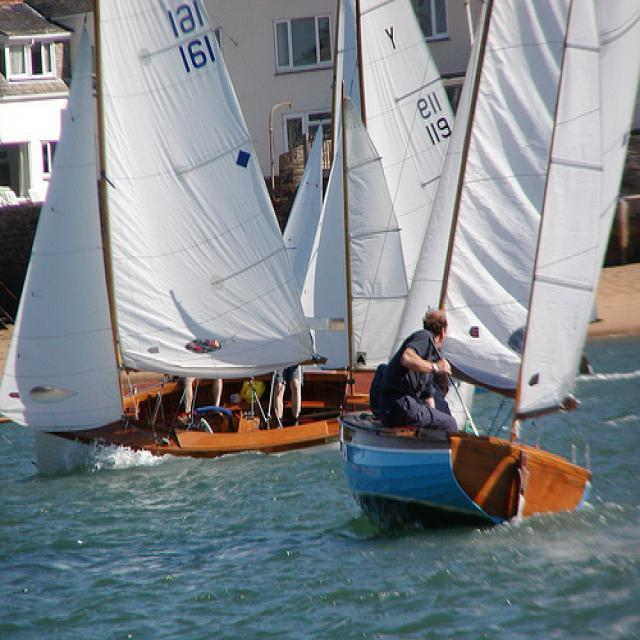Ship: (348, 8, 640, 531), (23, 1, 336, 469)
